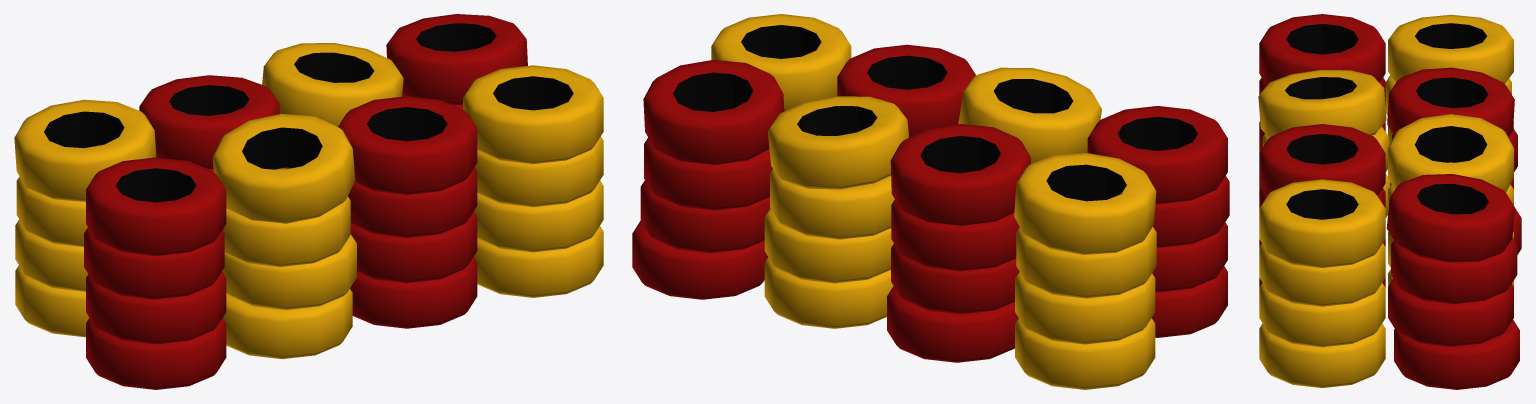
File: prop_tyre_4x8.FBX
3 renders of one model, left to right at view 1: azimuth 30°, elevation 25°; view 2: azimuth 150°, elevation 25°; view 3: azimuth 270°, elevation 25°, orthographic. The views are drawn at different scales.
Visible parts, largest first — view 1: prop_tyre_block; view 2: prop_tyre_block; view 3: prop_tyre_block.
Boxes of the visible parts, box(x1,y1,x2,y2) form: prop_tyre_block: box(14, 14, 603, 389); prop_tyre_block: box(632, 14, 1229, 389); prop_tyre_block: box(1258, 14, 1521, 389).
Bounding box in the file's own units: 138 × 50.47 × 69.2.
1 material, 1 textured.
